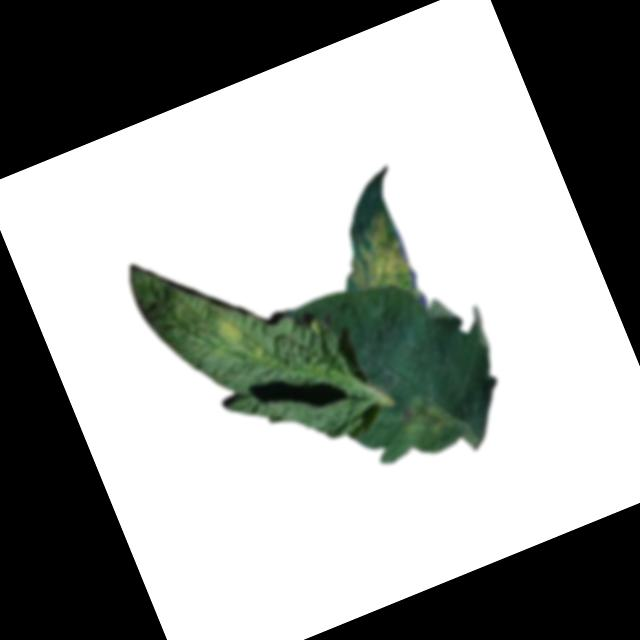Leaf_Mold: (329, 204, 424, 314), (376, 379, 475, 468), (208, 310, 248, 350)
